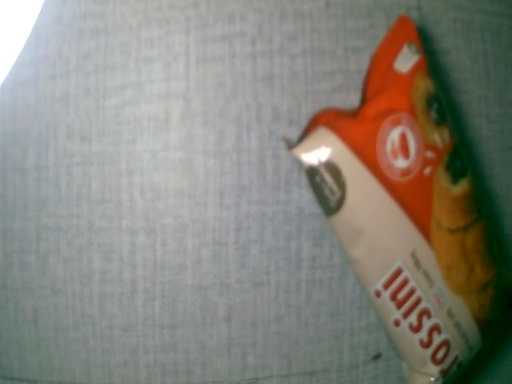plastic: (292, 12, 506, 384)
